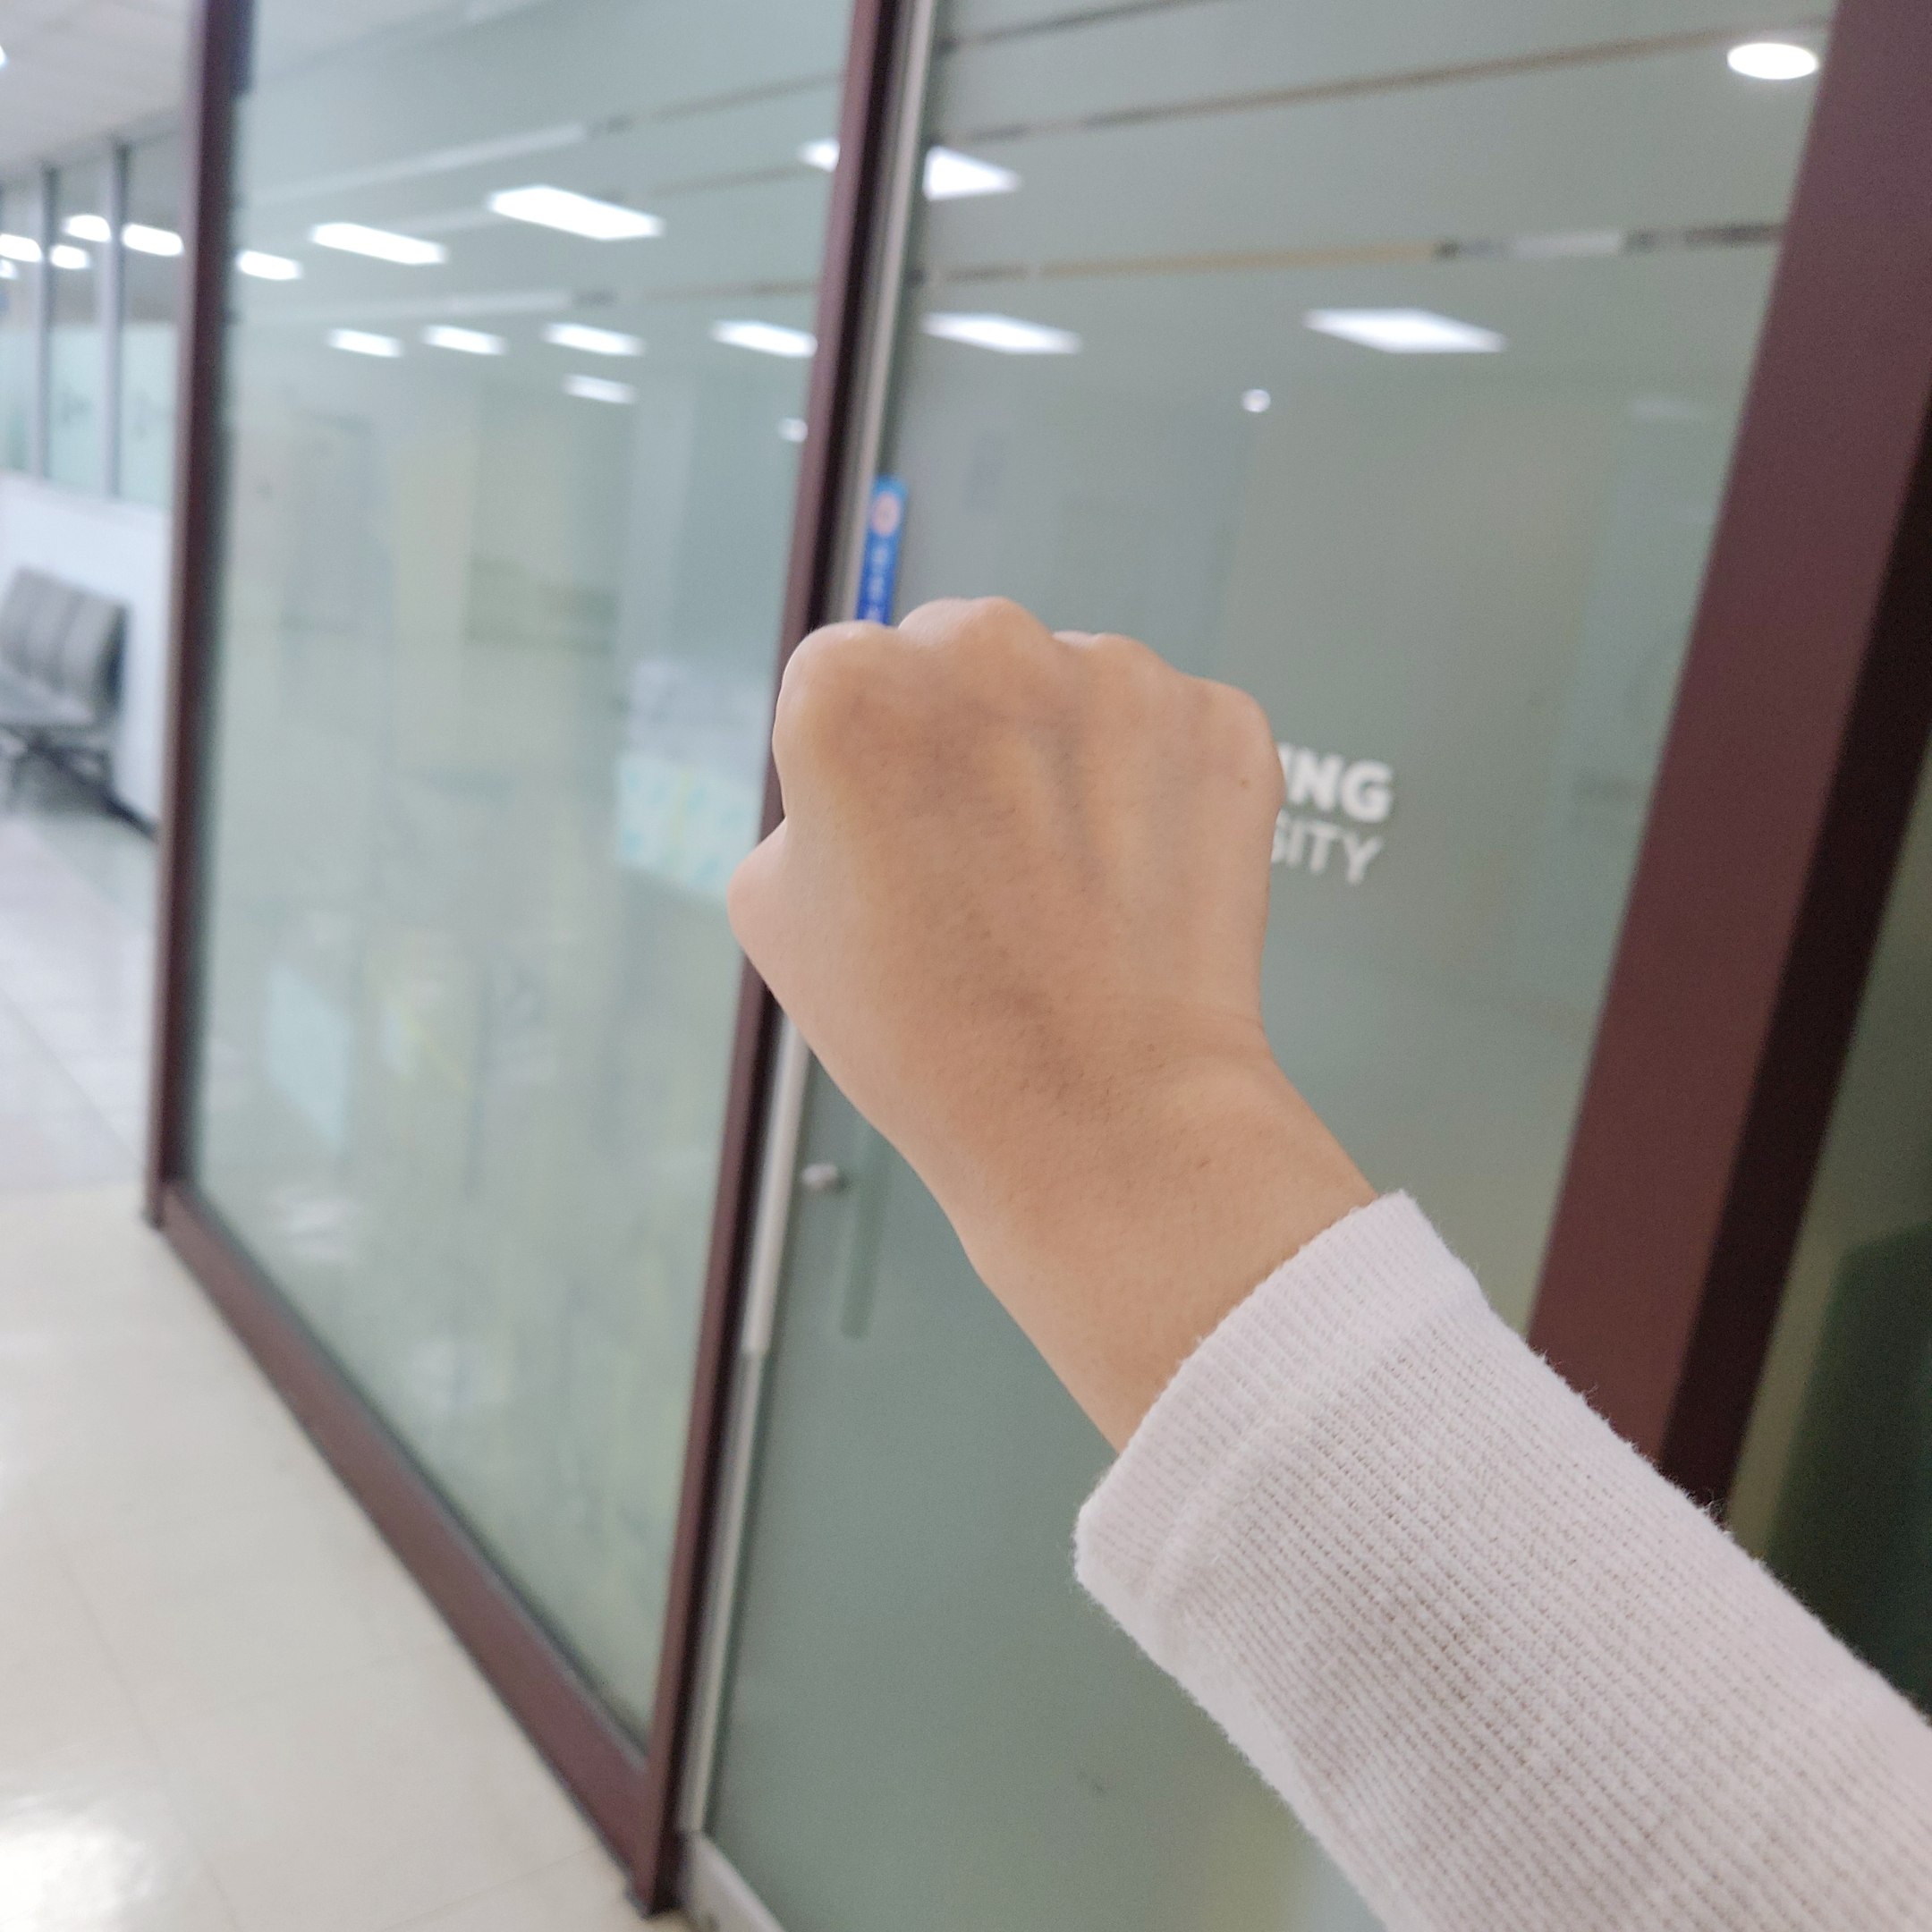smile: (720, 589, 1290, 1185)
